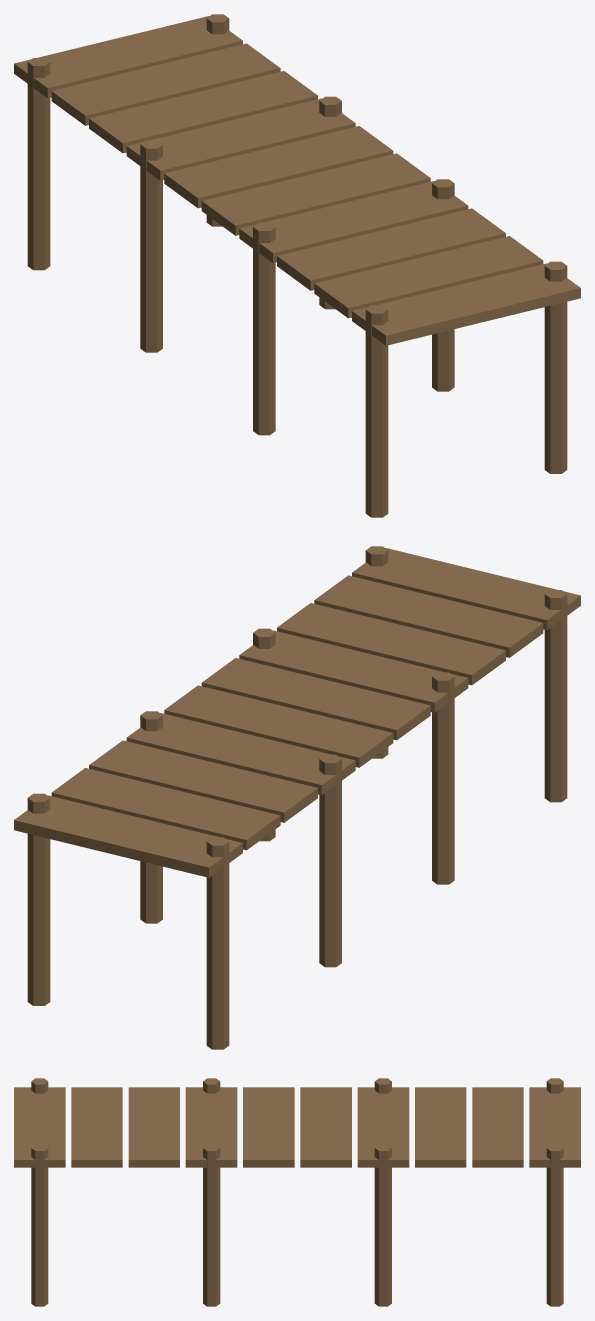
The model's file is DockSection.fbx.
3 views of the same model, one above another, from view 1: azimuth 30°, elevation 25°; view 2: azimuth 150°, elevation 25°; view 3: azimuth 270°, elevation 25° (orthographic). The views are drawn at different scales.
Visible parts, largest first — view 1: DockSection; view 2: DockSection; view 3: DockSection.
Boxes of the visible parts, box(x1,y1,x2,y2) form: DockSection: box(14, 14, 580, 517); DockSection: box(14, 546, 580, 1049); DockSection: box(14, 1078, 580, 1306).
Bounding box in the file's own units: 1204 × 1200 × 3960.
